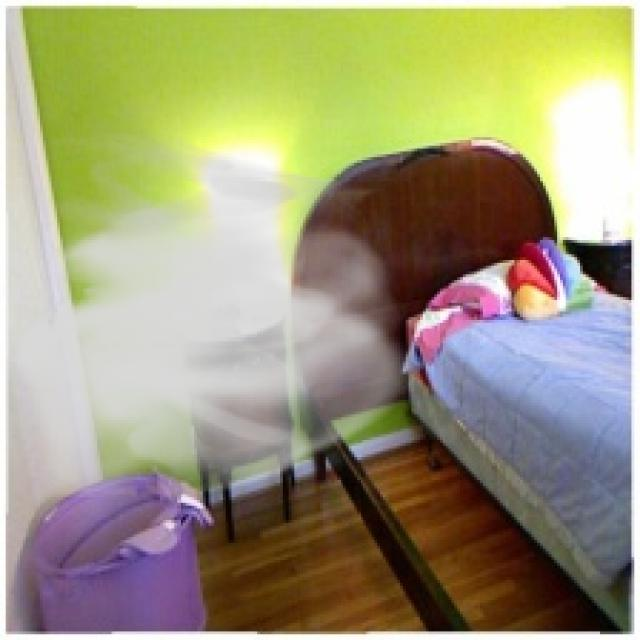smoke: (8, 128, 423, 508)
